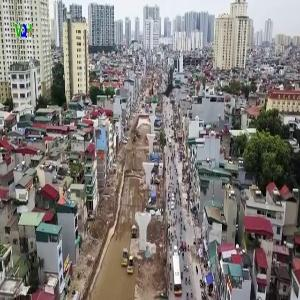drone: (139, 63, 199, 123)
